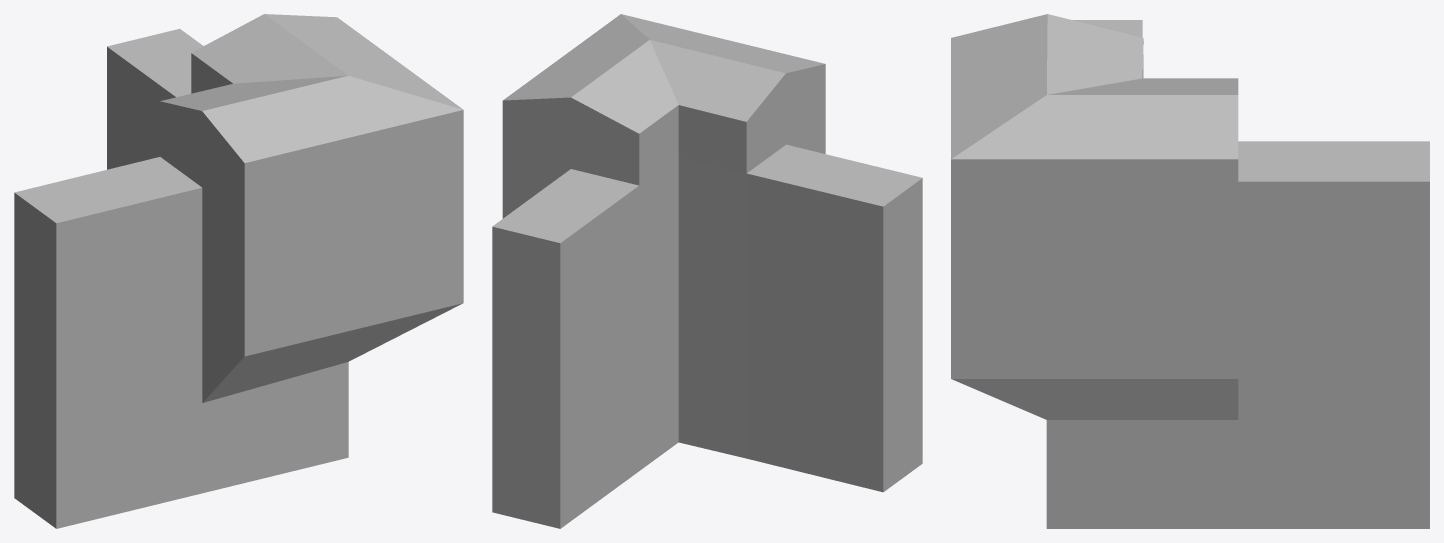
The model's file is WallSolidStonetopperCorner2.fbx.
3 views of the same model, side by side, from view 1: azimuth 30°, elevation 25°; view 2: azimuth 150°, elevation 25°; view 3: azimuth 270°, elevation 25° (orthographic). The views are drawn at different scales.
Visible parts, largest first — view 1: WallSolidStonetopperSmall_2; view 2: WallSolidStonetopperSmall_2; view 3: WallSolidStonetopperSmall_2.
Part boxes in pixels (x1,y1,x2,y2): WallSolidStonetopperSmall_2: [14, 14, 463, 528]; WallSolidStonetopperSmall_2: [492, 14, 922, 528]; WallSolidStonetopperSmall_2: [951, 14, 1429, 528].
Bounding box in the file's own units: 500 × 500 × 500.
